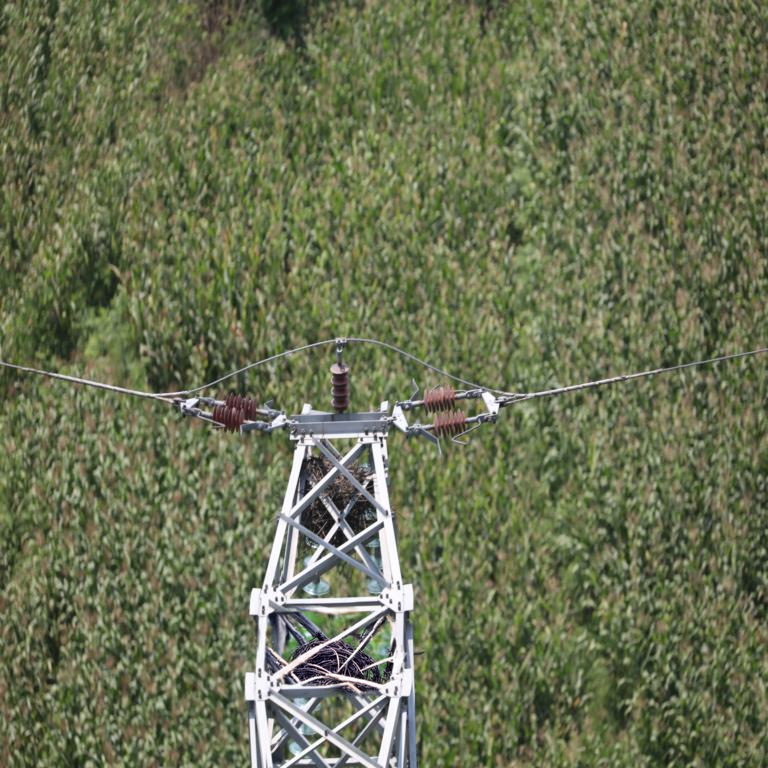nest: (294, 464, 368, 537), (285, 640, 378, 690)
